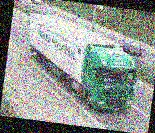truck: (19, 13, 144, 116)
